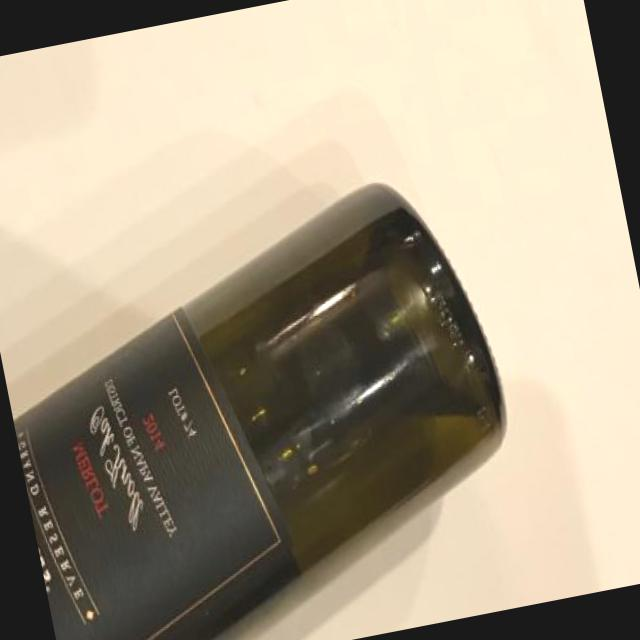chai_thuy_tinh: (14, 184, 505, 640)
